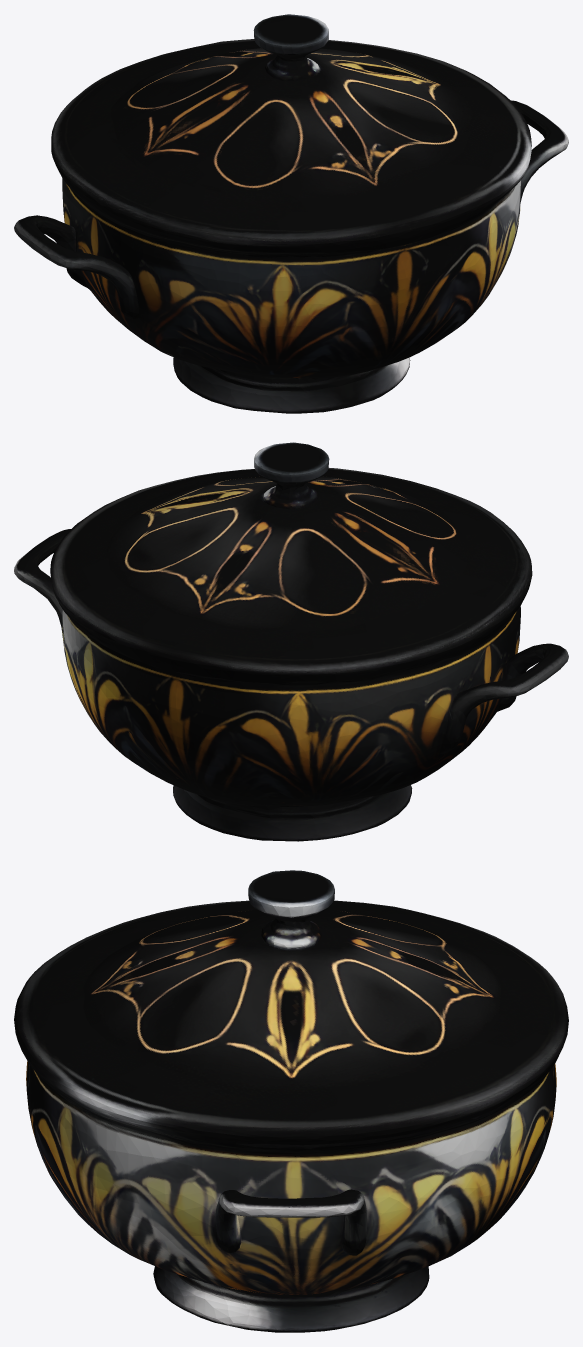
The model's file is ceramic-tureen-art-deco.jpeg.glb.
3 views of the same model, one above another, from view 1: azimuth 30°, elevation 25°; view 2: azimuth 150°, elevation 25°; view 3: azimuth 270°, elevation 25° (orthographic). The views are drawn at different scales.
Parts seen in each view (by area): view 1: world; view 2: world; view 3: world.
Boxes of the visible parts, left/top/right/bottom form: world: left=14, top=14, right=568, bottom=413; world: left=14, top=442, right=568, bottom=841; world: left=14, top=870, right=568, bottom=1332.
Bounding box in the file's own units: 1 × 0.6212 × 0.8057.
1 material, 1 textured.
